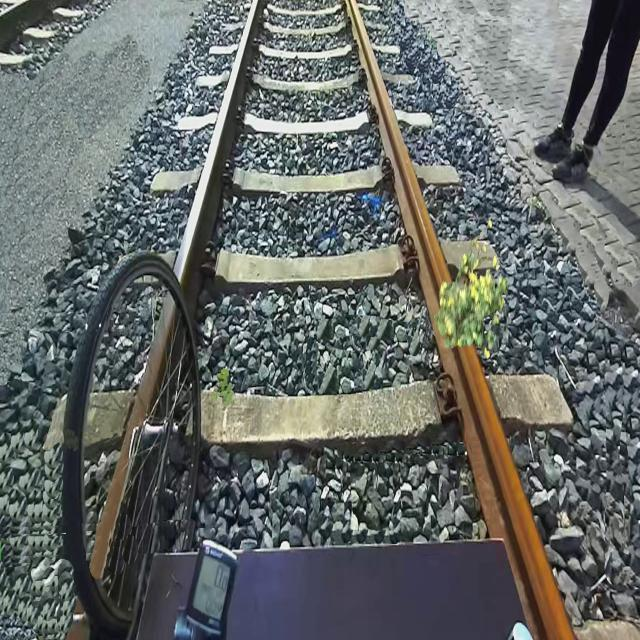Plant: (434, 219, 509, 359), (212, 368, 236, 409)
